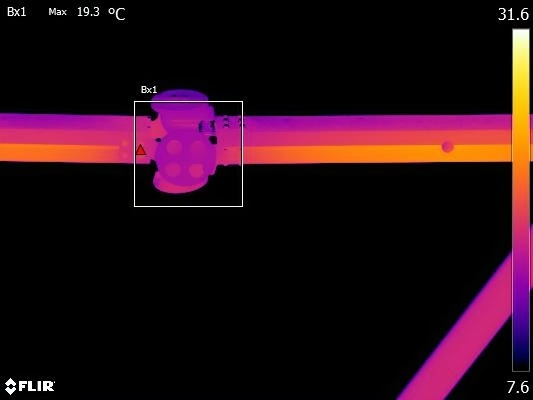switch: (1, 96, 508, 199)
